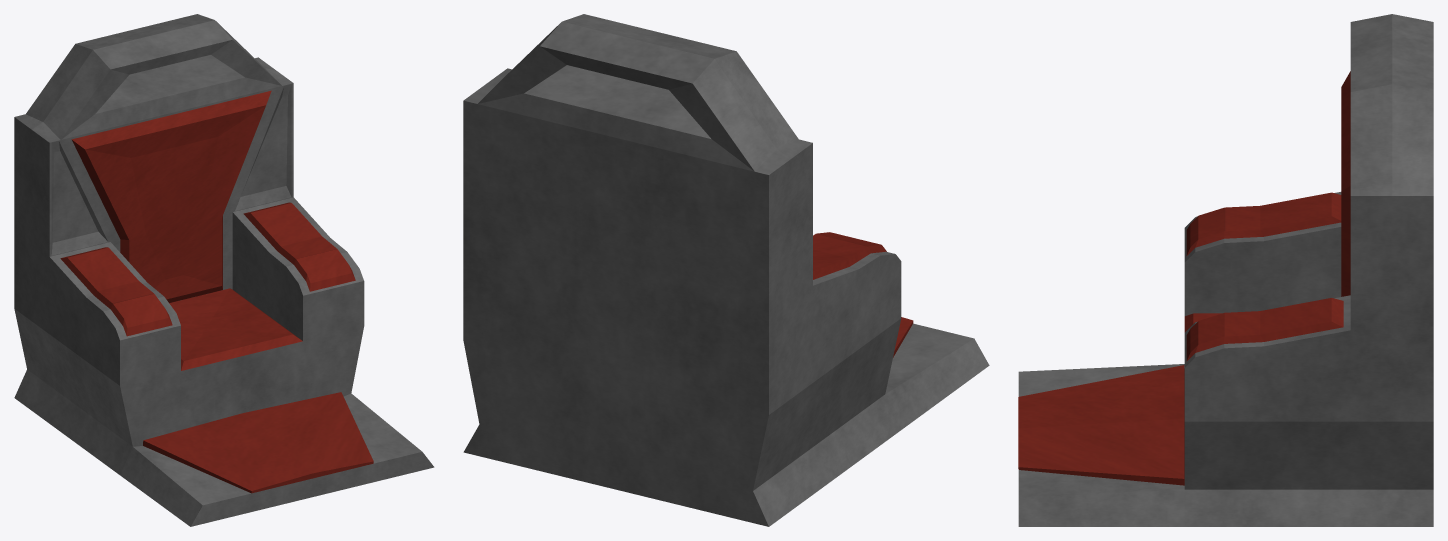
File: KingsChair.fbx
The picture shows the model from 3 angles, left to right: view 1: azimuth 30°, elevation 25°; view 2: azimuth 150°, elevation 25°; view 3: azimuth 270°, elevation 25°; orthographic projection. The views are drawn at different scales.
Visible parts, largest first — view 1: Cube; view 2: Cube; view 3: Cube.
Boxes of the visible parts, box(x1,y1,x2,y2) form: Cube: box(14, 14, 434, 526); Cube: box(463, 14, 989, 526); Cube: box(1018, 14, 1433, 526).
Size of the model in its own units: 400 by 542 by 500.
2 materials, 2 textured.
